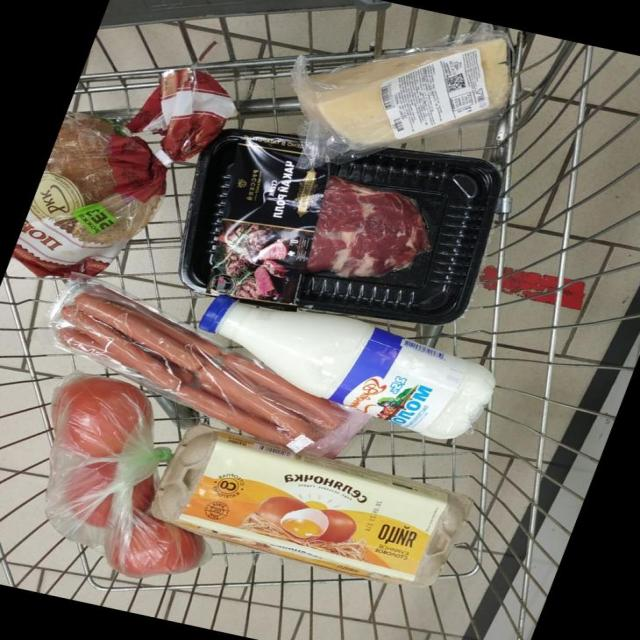Bread: (12, 69, 235, 277)
Cheese: (291, 31, 512, 168)
Eggs: (150, 426, 471, 586)
Meat: (180, 129, 500, 325)
Milk: (199, 295, 495, 439)
Sausages: (53, 281, 370, 457)
Tomatoes: (52, 376, 151, 458), (105, 511, 210, 578), (63, 461, 117, 515), (85, 495, 114, 528), (132, 478, 155, 512)
